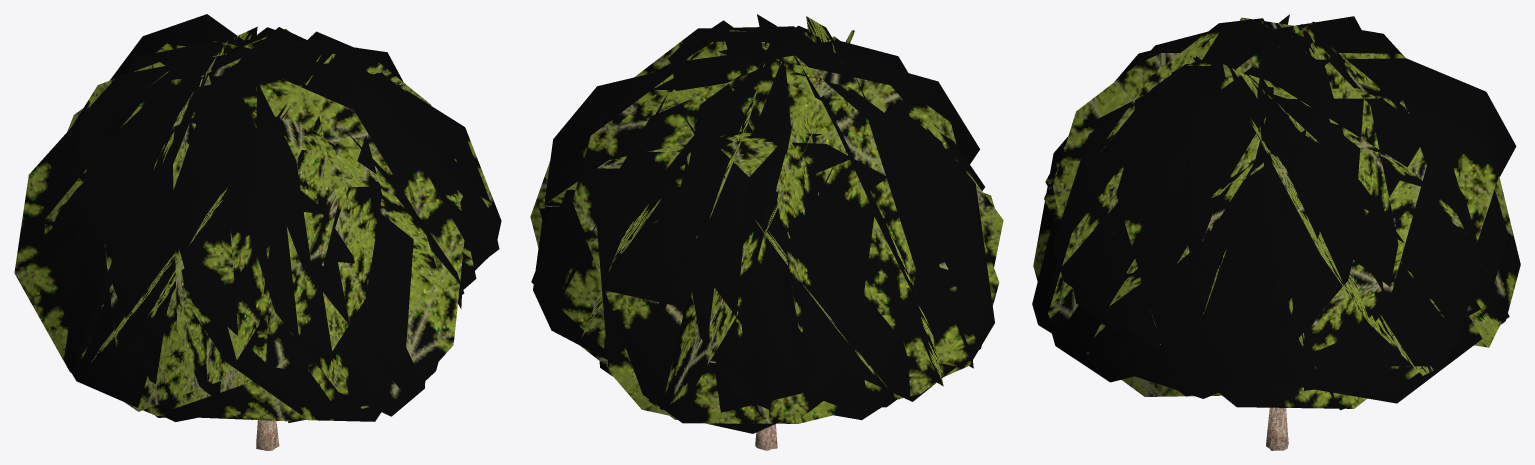
Rendered from tree5.fbx.
3 views of the same model, side by side, from view 1: azimuth 30°, elevation 25°; view 2: azimuth 150°, elevation 25°; view 3: azimuth 270°, elevation 25° (orthographic).
Parts seen in each view (by area): view 1: Tree_LOD0; view 2: Tree_LOD0; view 3: Tree_LOD0.
Boxes of the visible parts, x1,y1,x2,y2 form: Tree_LOD0: (14, 14, 501, 450); Tree_LOD0: (530, 14, 1003, 450); Tree_LOD0: (1032, 14, 1520, 450).
Size of what is drawn, in the model's own units: 1399 by 1354 by 1445.
